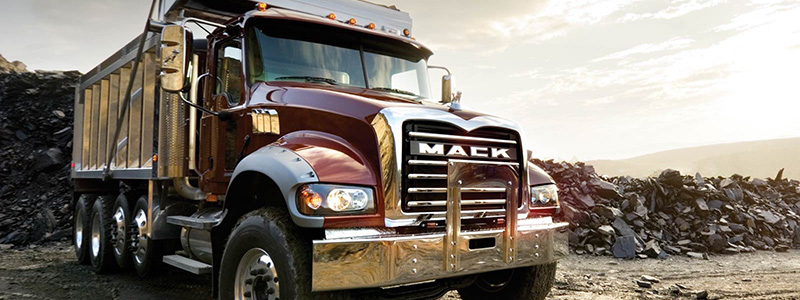truck: (65, 1, 575, 300)
